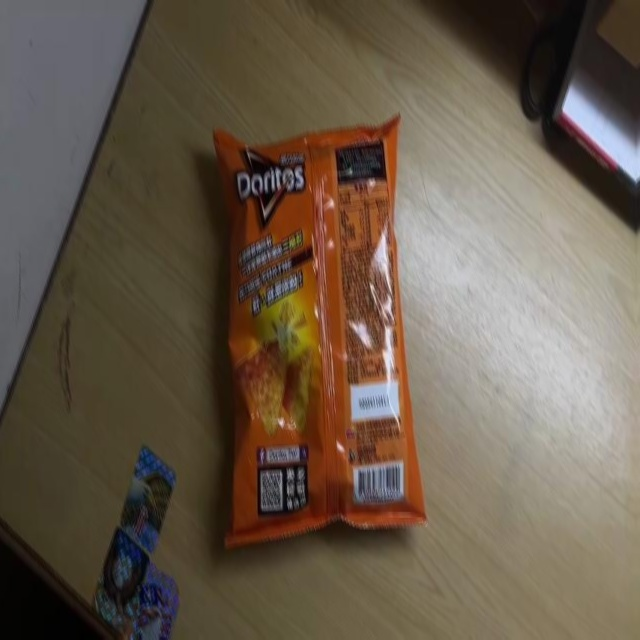Doritos: (210, 111, 432, 559)
